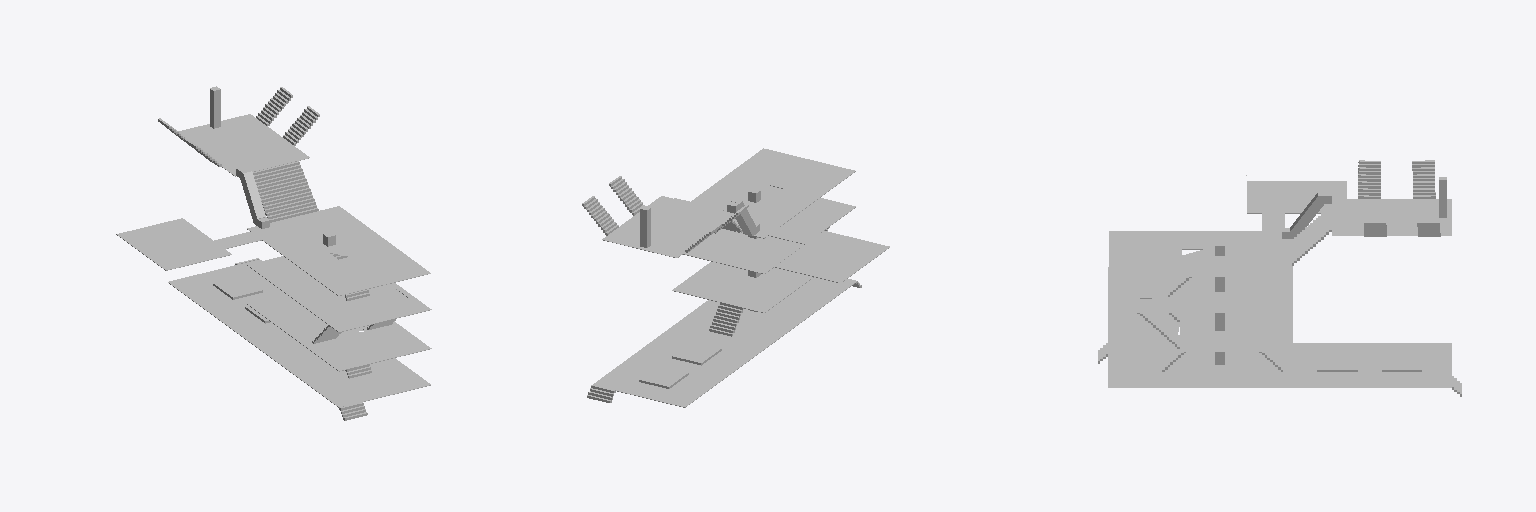
File: 여의나루.obj
The picture shows the model from 3 angles: view 1: azimuth 30°, elevation 25°; view 2: azimuth 150°, elevation 25°; view 3: azimuth 270°, elevation 25°; orthographic projection.
Parts seen in each view (by area): view 1: 큐브.071; view 2: 큐브.071; view 3: 큐브.071.
Part boxes in pixels (x1,y1,x2,y2): 큐브.071: (116,86,431,420); 큐브.071: (582,148,889,407); 큐브.071: (1098,160,1461,396).
Bounding box in the file's own units: 282 × 248 × 420.